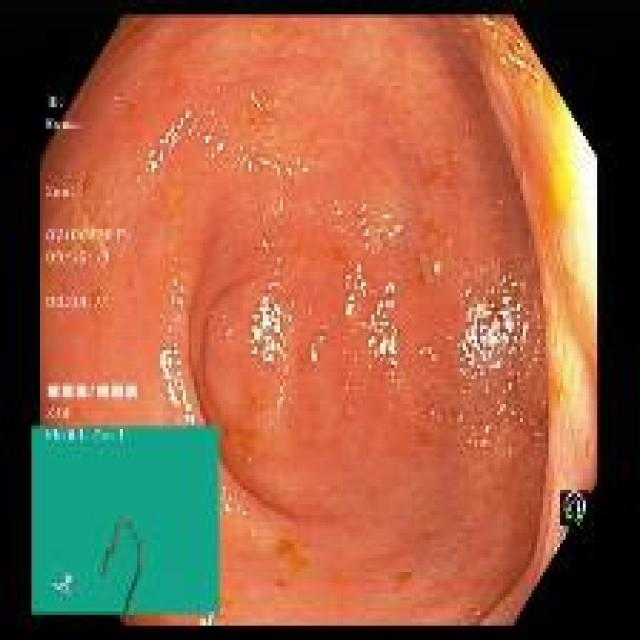ulcerative-colitis: (41, 25, 549, 619)
